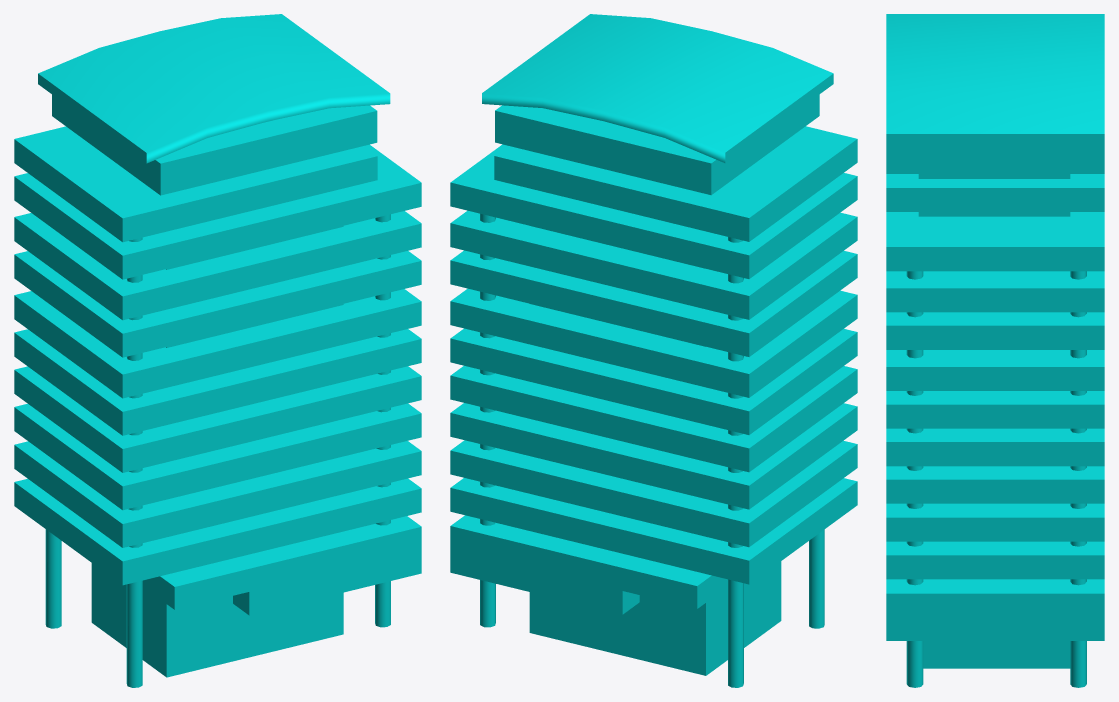
Rendered from Building_Jenga.fbx.
3 renders of one model, left to right at view 1: azimuth 30°, elevation 25°; view 2: azimuth 150°, elevation 25°; view 3: azimuth 270°, elevation 25°, orthographic.
Parts seen in each view (by area): view 1: polySurface20, polySurface15, polySurface13, polySurface11, polySurface16, polySurface17, polySurface10, polySurface8, polySurface18, polySurface12, polySurface9, polySurface14 (+6 smaller); view 2: polySurface20, polySurface15, polySurface13, polySurface11, polySurface16, polySurface17, polySurface12, polySurface8, polySurface10, polySurface18, polySurface9, polySurface14 (+6 smaller); view 3: polySurface20, polySurface16, polySurface11, polySurface13, polySurface9, polySurface18, polySurface17, polySurface8, polySurface10, polySurface12, polySurface19, polySurface15 (+5 smaller).
Boxes of the visible parts, x1=… form: polySurface20: x1=38, y1=14, x2=390, y2=163; polySurface15: x1=14, y1=126, x2=377, y2=242; polySurface13: x1=14, y1=289, x2=421, y2=398; polySurface11: x1=14, y1=211, x2=421, y2=320; polySurface16: x1=14, y1=144, x2=421, y2=279; polySurface17: x1=14, y1=441, x2=421, y2=547; polySurface10: x1=14, y1=403, x2=421, y2=510; polySurface8: x1=14, y1=329, x2=421, y2=435; polySurface18: x1=14, y1=478, x2=421, y2=585; polySurface12: x1=14, y1=251, x2=421, y2=357; polySurface9: x1=14, y1=366, x2=421, y2=472; polySurface14: x1=91, y1=120, x2=343, y2=677; polySurface20: x1=482, y1=14, x2=833, y2=163; polySurface15: x1=494, y1=126, x2=857, y2=241; polySurface13: x1=450, y1=288, x2=857, y2=397; polySurface11: x1=450, y1=210, x2=857, y2=319; polySurface16: x1=450, y1=144, x2=857, y2=278; polySurface17: x1=450, y1=440, x2=857, y2=547; polySurface12: x1=450, y1=250, x2=857, y2=356; polySurface8: x1=450, y1=328, x2=857, y2=434; polySurface10: x1=450, y1=403, x2=857, y2=509; polySurface18: x1=450, y1=478, x2=857, y2=584; polySurface9: x1=450, y1=365, x2=857, y2=472; polySurface14: x1=529, y1=234, x2=781, y2=675; polySurface20: x1=886, y1=14, x2=1104, y2=144; polySurface16: x1=886, y1=212, x2=1104, y2=271; polySurface11: x1=886, y1=271, x2=1104, y2=312; polySurface13: x1=886, y1=350, x2=1104, y2=390; polySurface9: x1=886, y1=428, x2=1104, y2=466; polySurface18: x1=886, y1=541, x2=1104, y2=579; polySurface17: x1=886, y1=503, x2=1104, y2=541; polySurface8: x1=886, y1=391, x2=1104, y2=428; polySurface10: x1=886, y1=466, x2=1104, y2=503; polySurface12: x1=886, y1=312, x2=1104, y2=349; polySurface19: x1=886, y1=579, x2=1104, y2=616; polySurface15: x1=886, y1=174, x2=1104, y2=211.
Size of the model in its own units: 923 by 1645 by 580.
